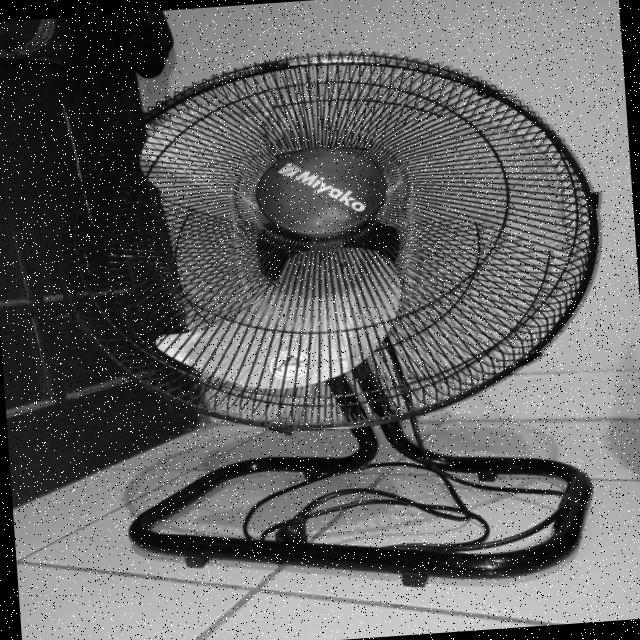fan: (35, 25, 627, 458)
